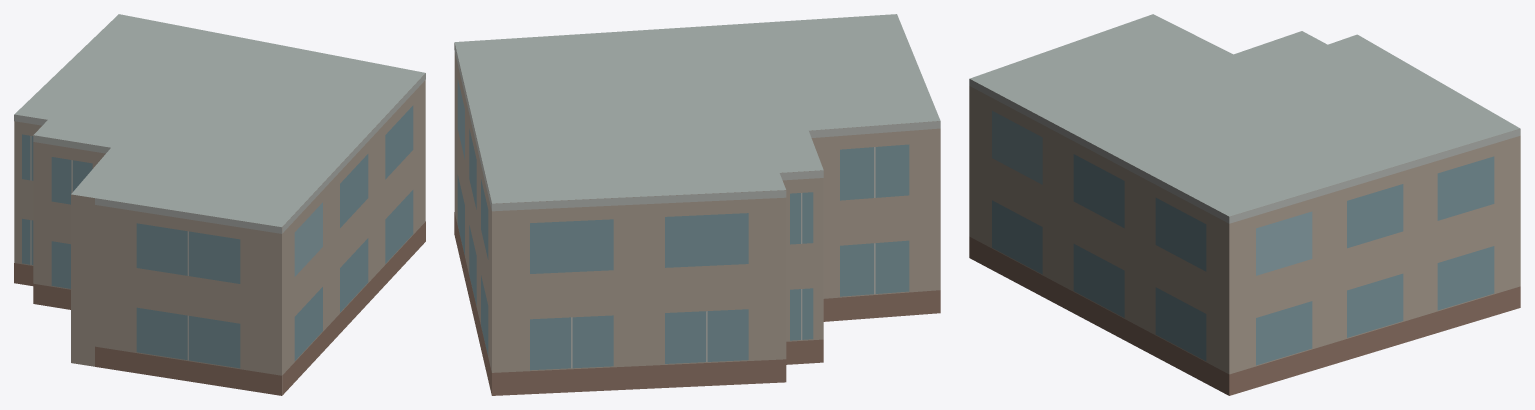
The model's file is survey-upis-32655317.glb.
3 renders of one model, left to right at view 1: azimuth 30°, elevation 25°; view 2: azimuth 150°, elevation 25°; view 3: azimuth 270°, elevation 25°, orthographic. The views are drawn at different scales.
Visible parts, largest first — view 1: survey-upis-32655317.tmp; view 2: survey-upis-32655317.tmp; view 3: survey-upis-32655317.tmp.
Part boxes in pixels (x1=…): survey-upis-32655317.tmp: x1=14, y1=14, x2=425, y2=395; survey-upis-32655317.tmp: x1=454, y1=14, x2=940, y2=395; survey-upis-32655317.tmp: x1=969, y1=14, x2=1520, y2=395.
Size of the model in its own units: 14.79 by 6.1 by 17.
